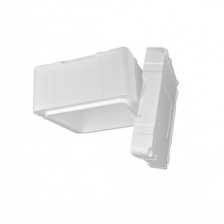foam_box: (26, 43, 163, 138), (125, 43, 182, 175)
